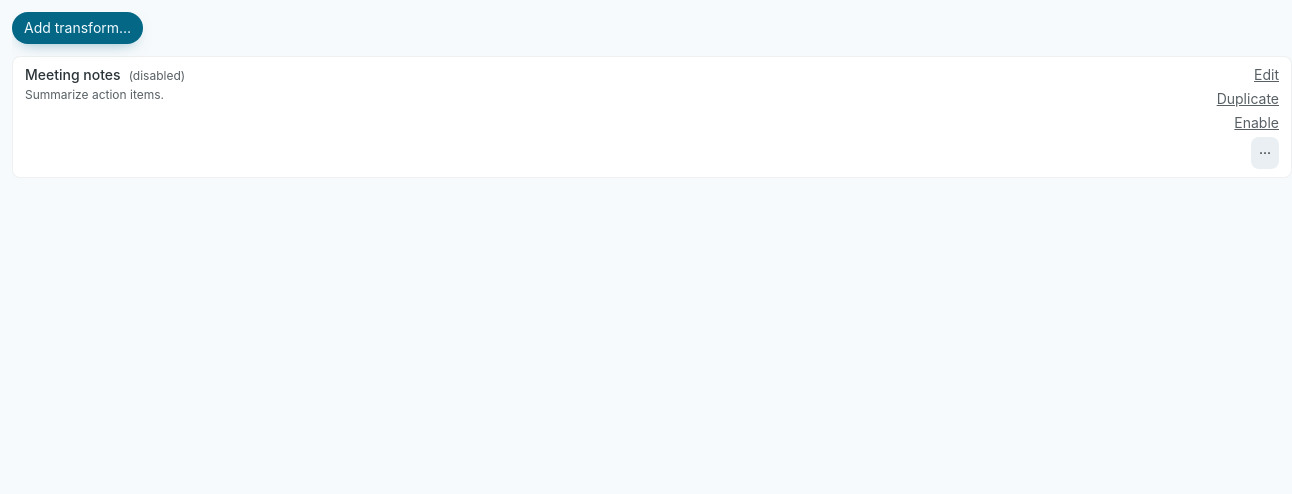
it: TransformsManager › avoids normalized copy names on later pages, including disabled entries
Click the button "Duplicate".
click(1248, 99)  # box x1=1217 y1=89 x2=1279 y2=109
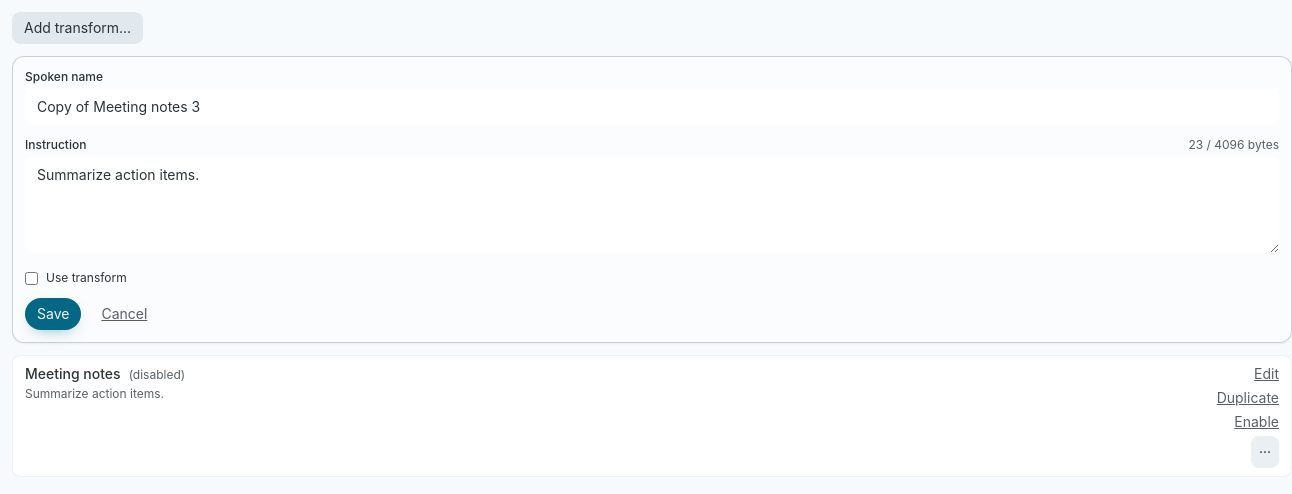
Expected: the field named "Spoken name" holds "Copy of Meeting notes 3", x1=25 y1=89 x2=1279 y2=125
